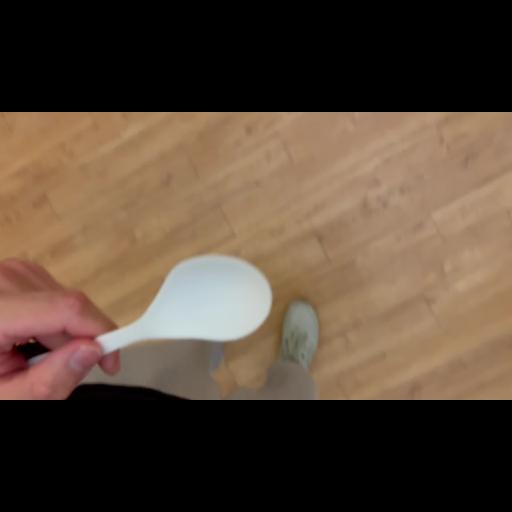utensil: (16, 252, 276, 374)
